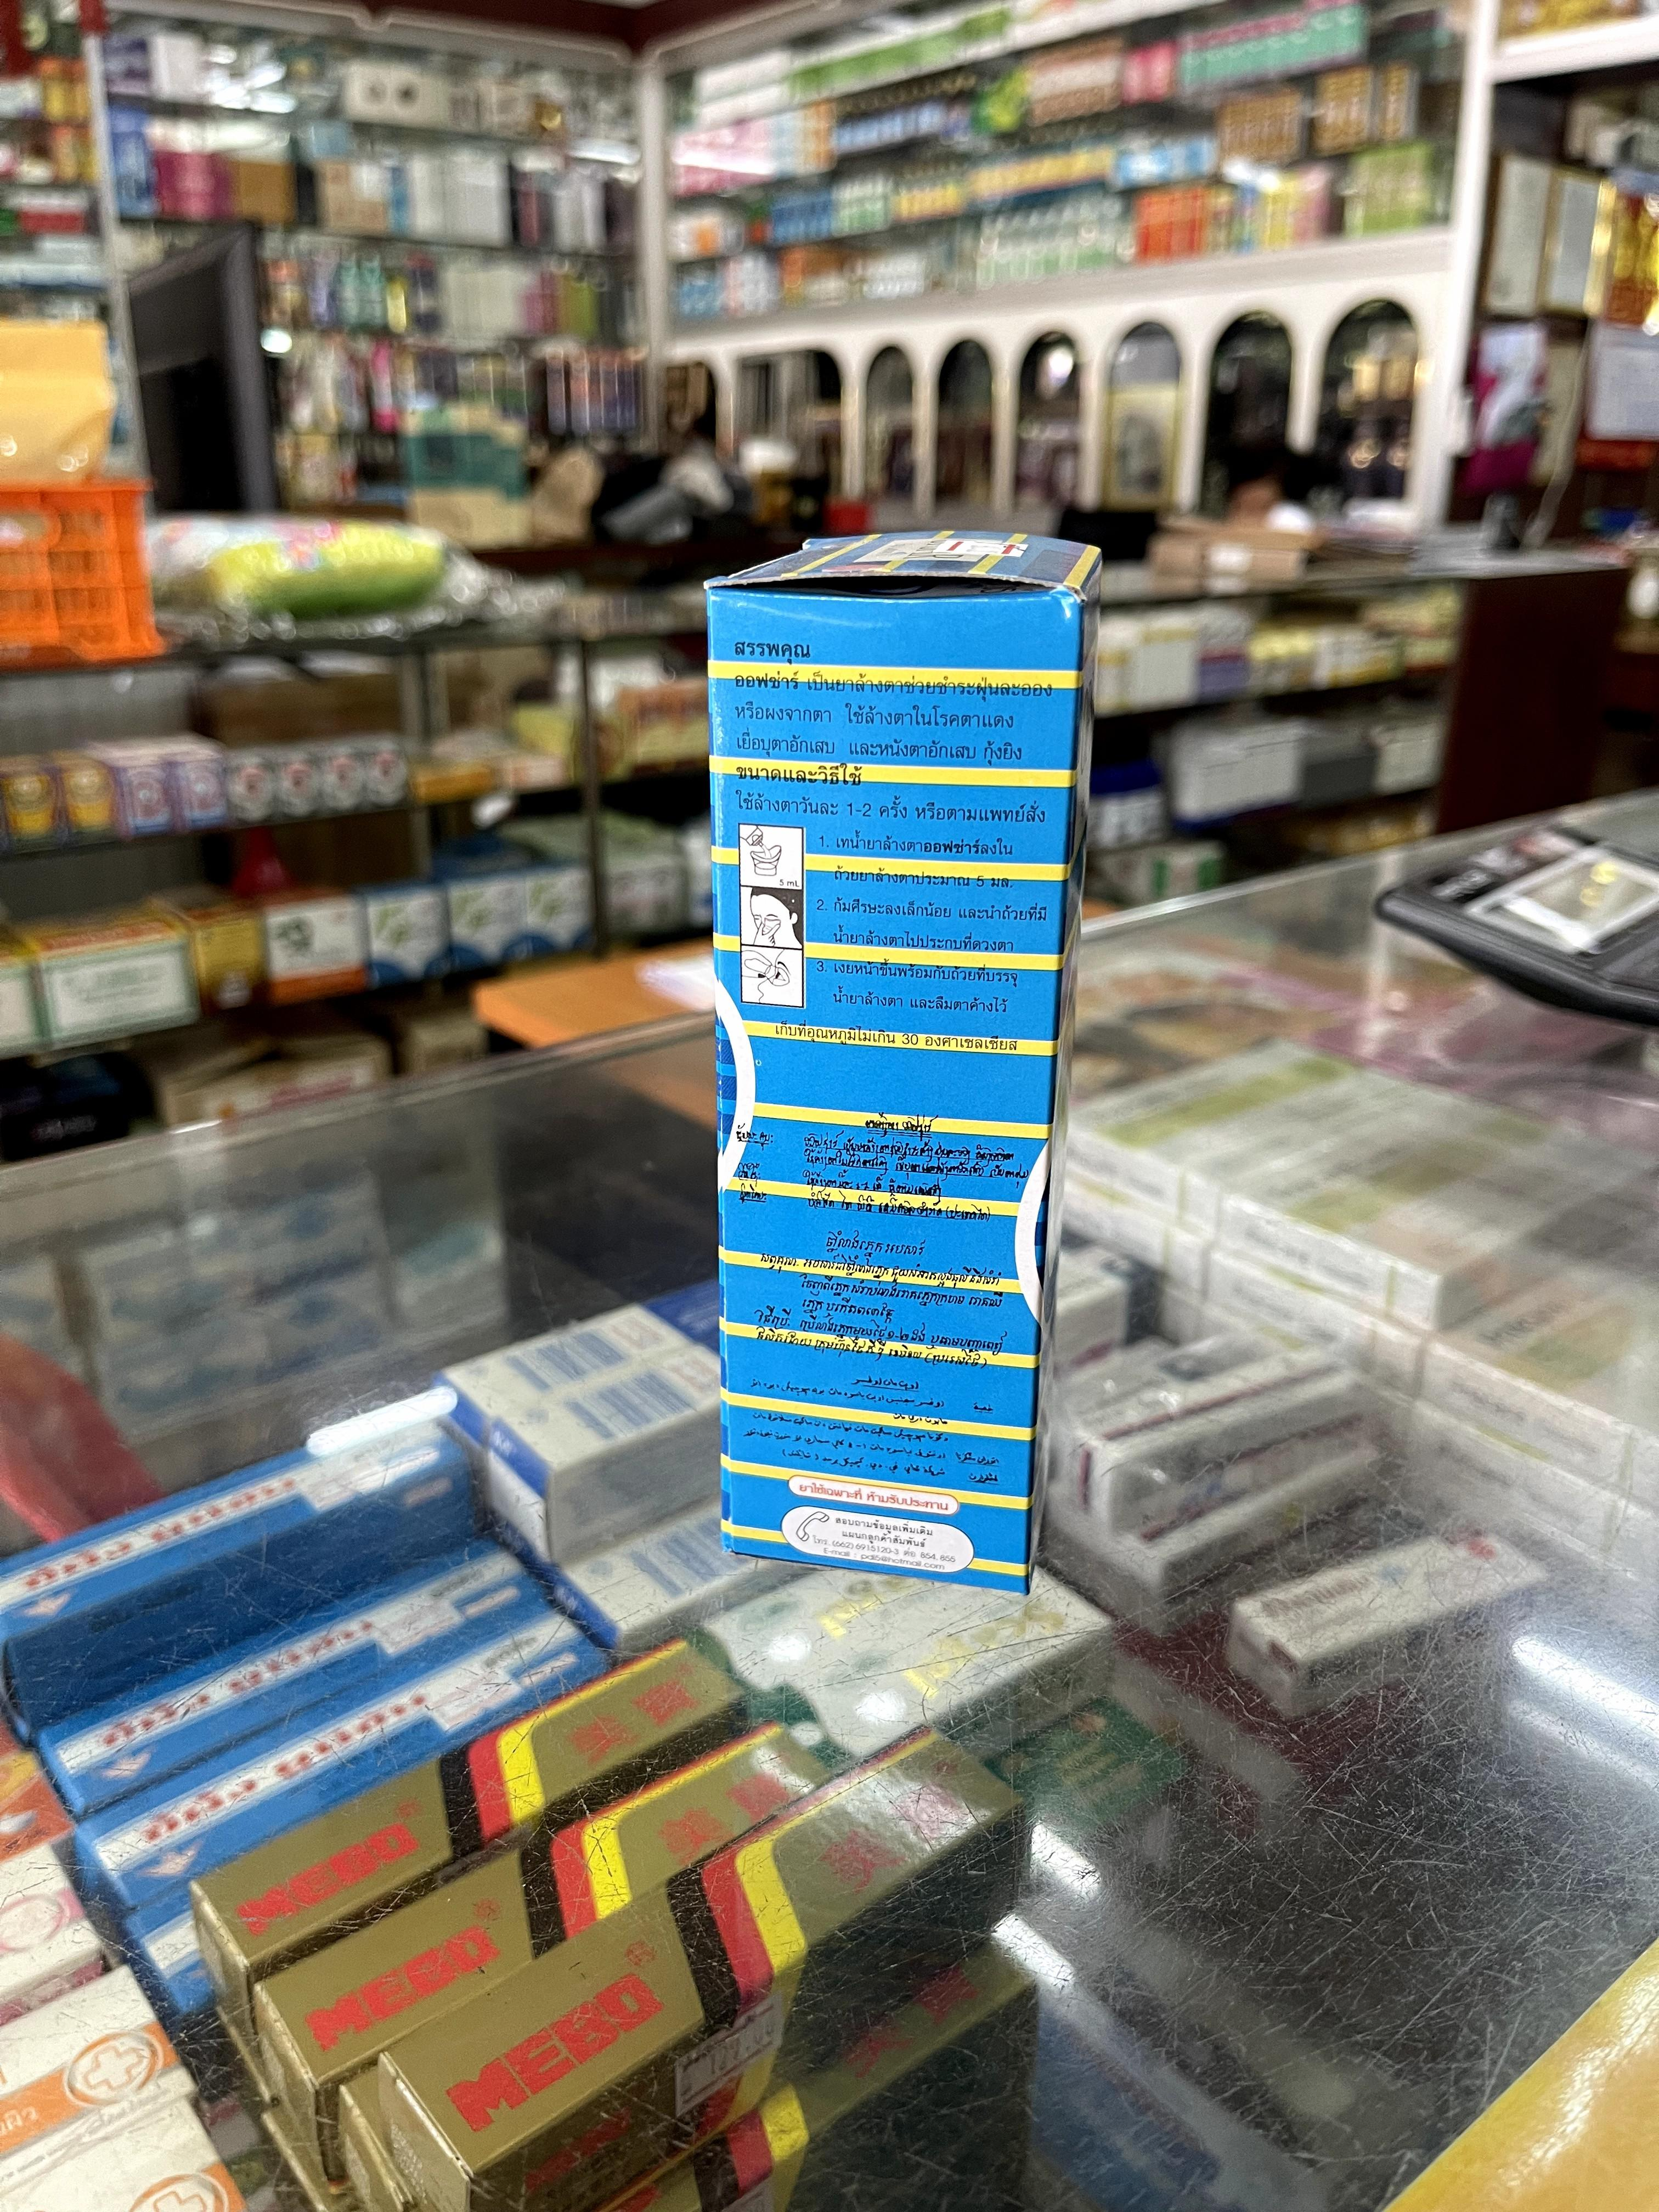Opsar: (708, 535, 1100, 1594)
